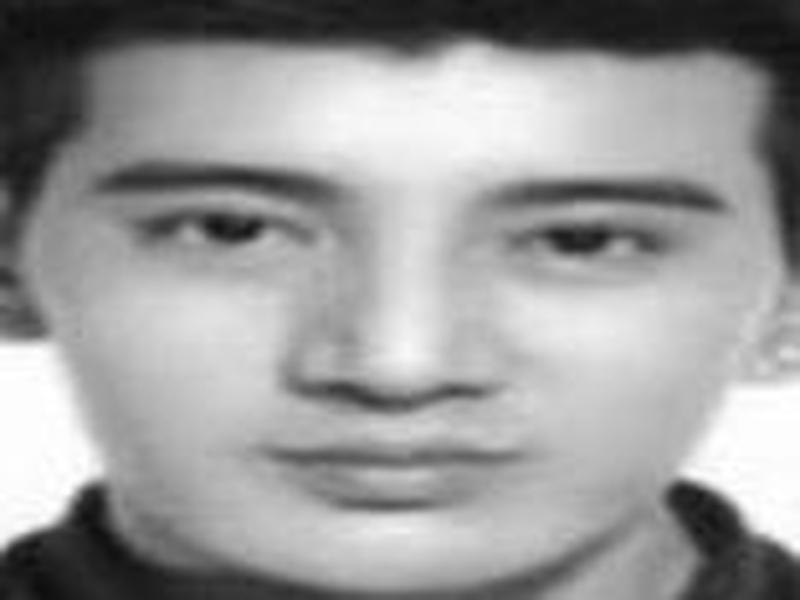without_mask: (40, 46, 768, 587)
